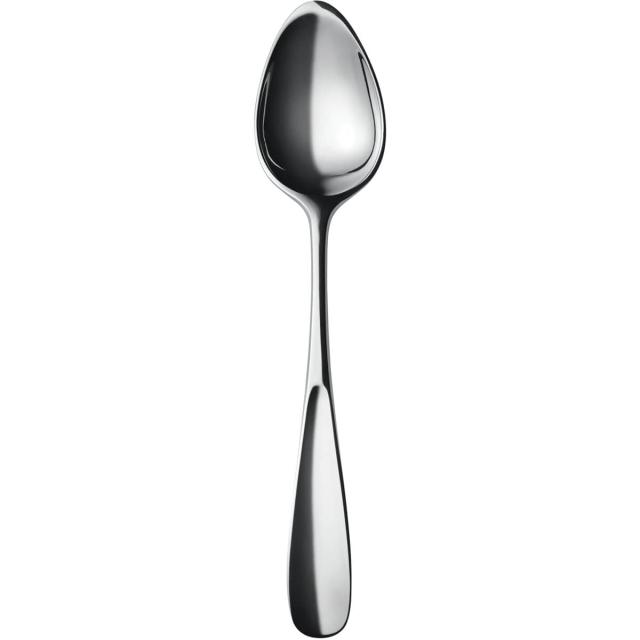spoon: (234, 0, 399, 640)
